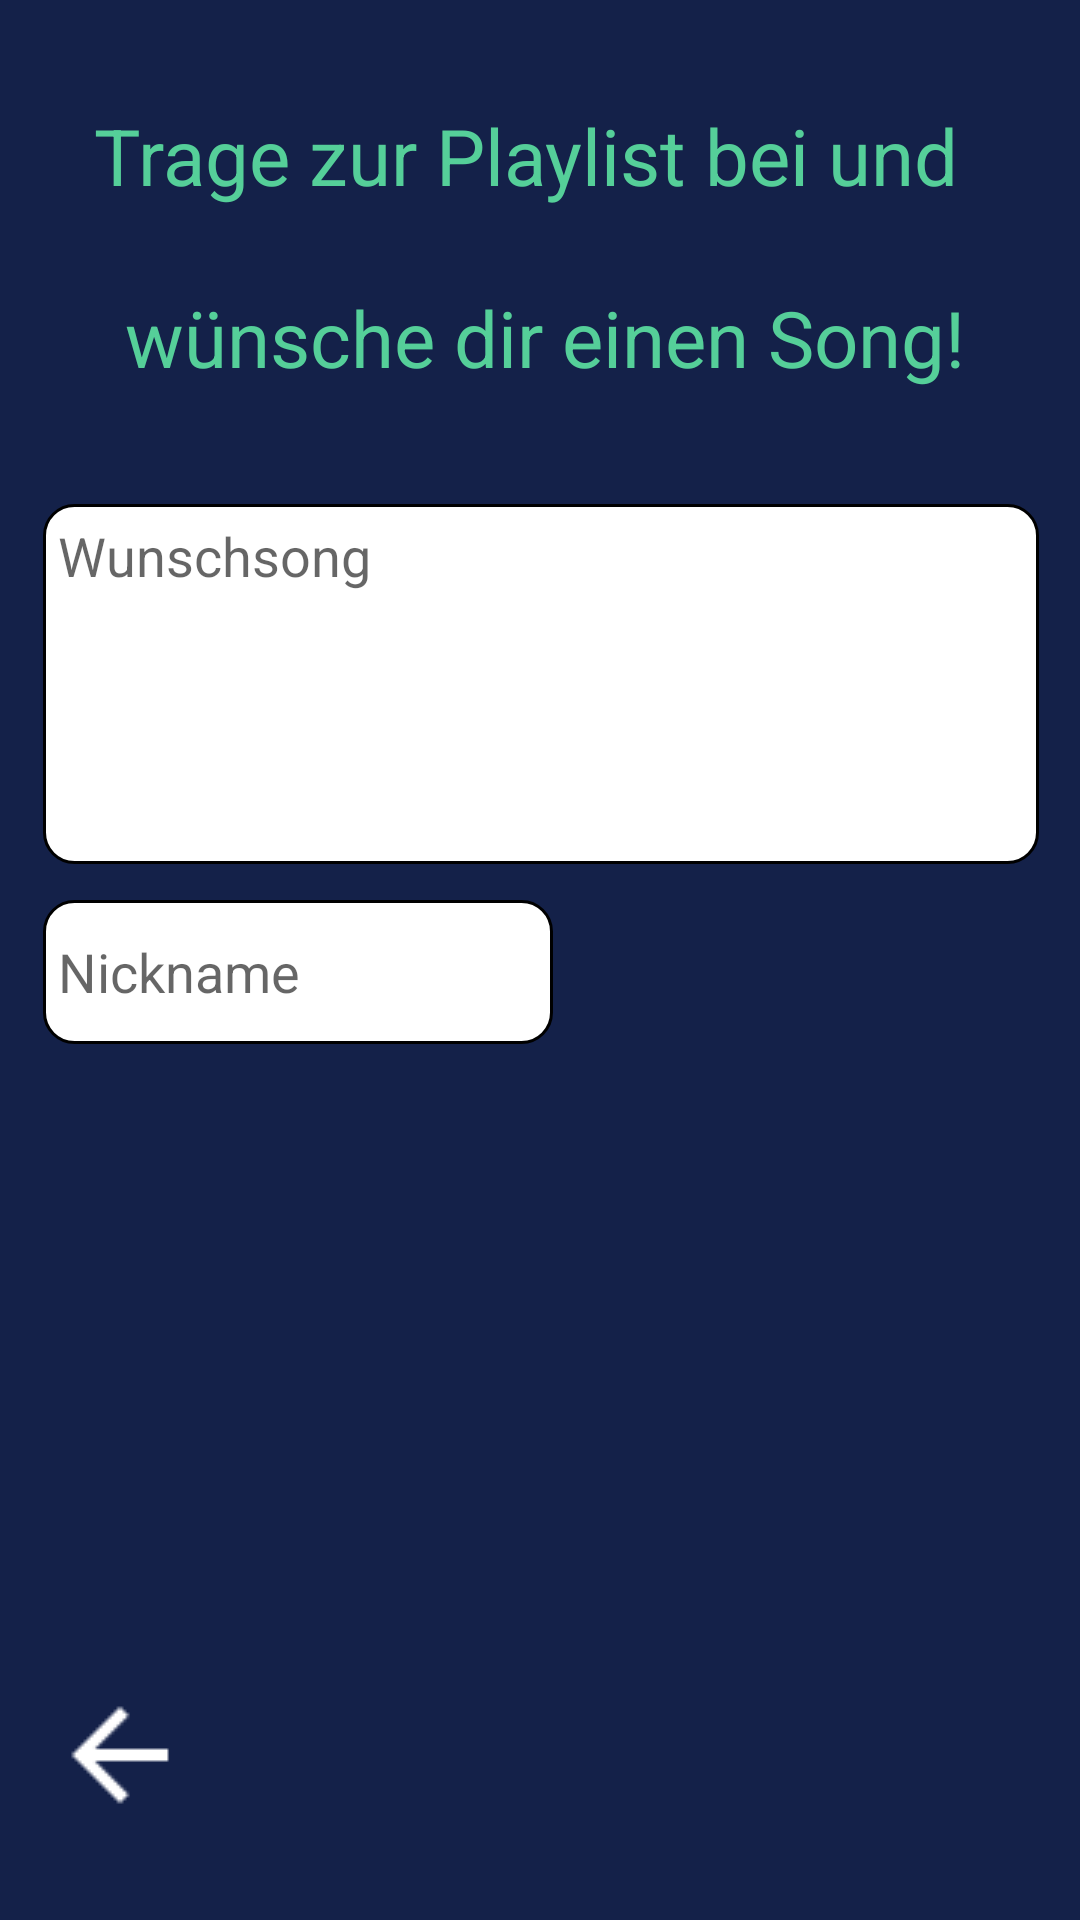

Named icons in this screenshot (1080x1920) and their centers, [x,y]:
Zurück: [120,1755]
